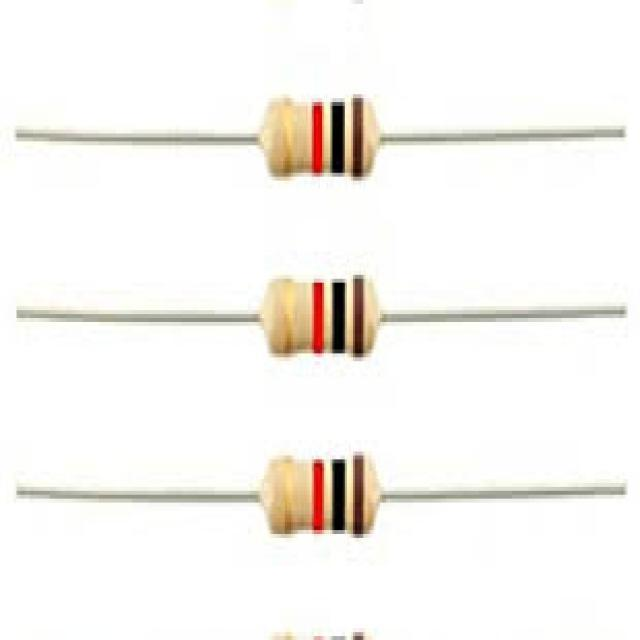Resistor Carbon-Film: (262, 96, 380, 180), (263, 274, 381, 358), (264, 454, 382, 536)
